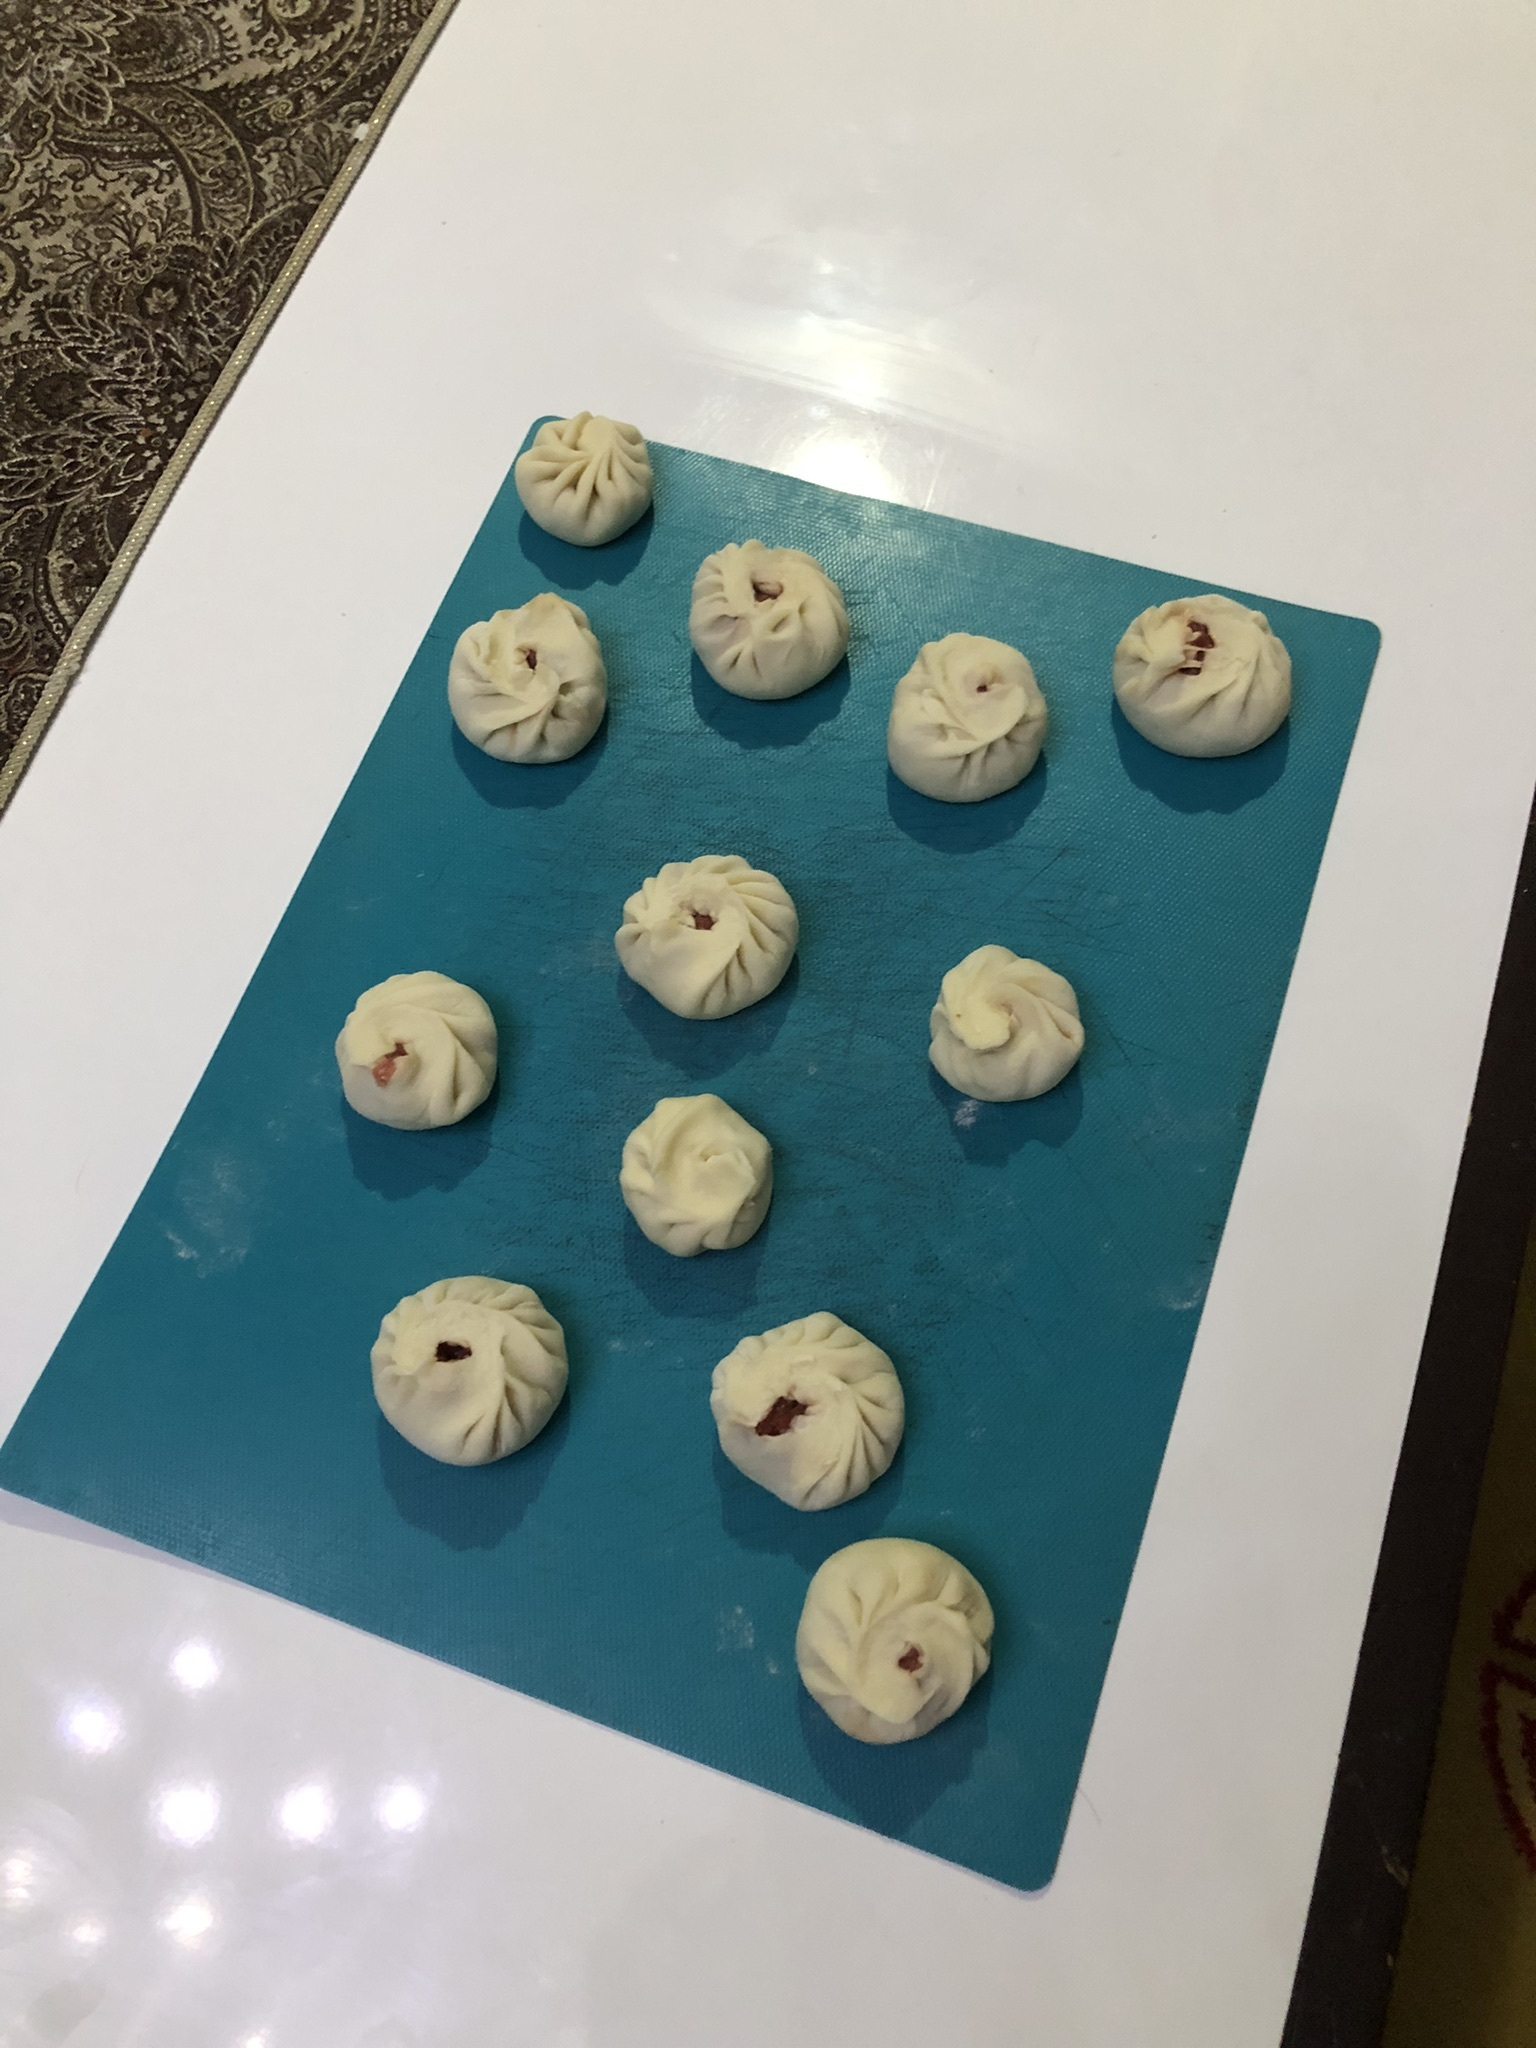buuz: (786, 1530, 1007, 1755), (699, 1306, 915, 1517), (361, 1264, 571, 1476), (607, 842, 808, 1027), (1104, 587, 1304, 768), (440, 585, 623, 777), (879, 627, 1060, 814), (678, 529, 866, 708), (913, 935, 1097, 1113), (328, 961, 503, 1138), (611, 1085, 784, 1266), (507, 406, 663, 555)
